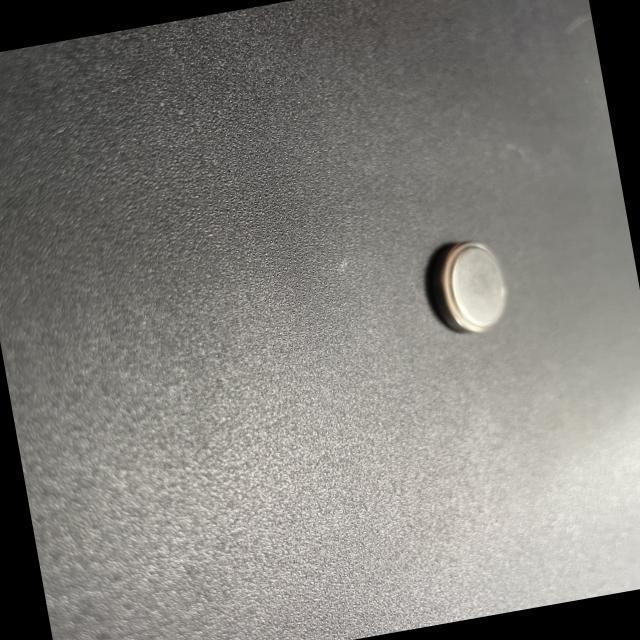COIN: (420, 232, 516, 342)
